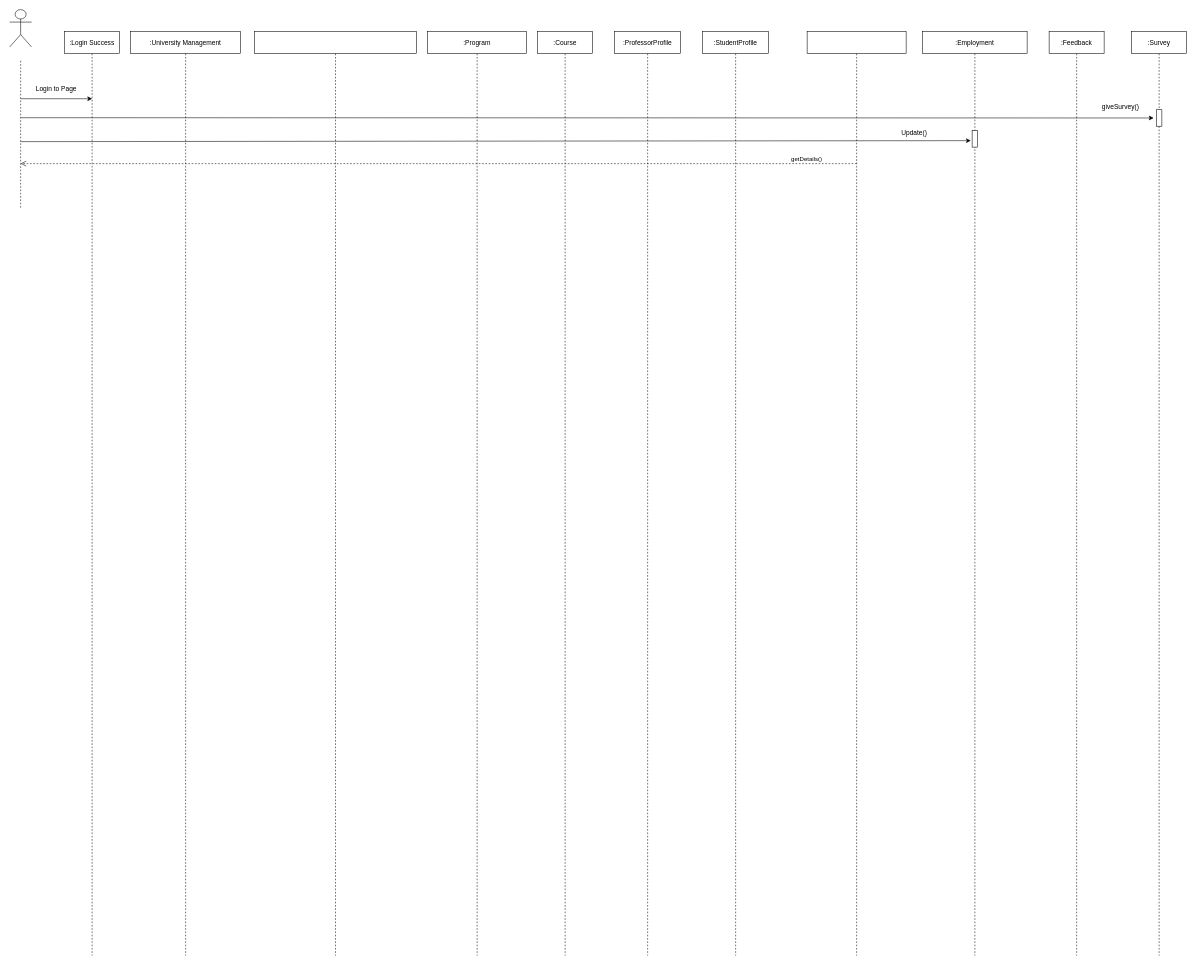
The diagram is 1196 pixels wide and 965 high, and some of its shapes have lost their labels. The box of each missing label's shape, as (x1, y1, x2, y2) in pixels:
:College Management: (254, 31, 417, 956)
:Publications: (807, 31, 906, 956)
Alumini: (9, 9, 32, 47)
